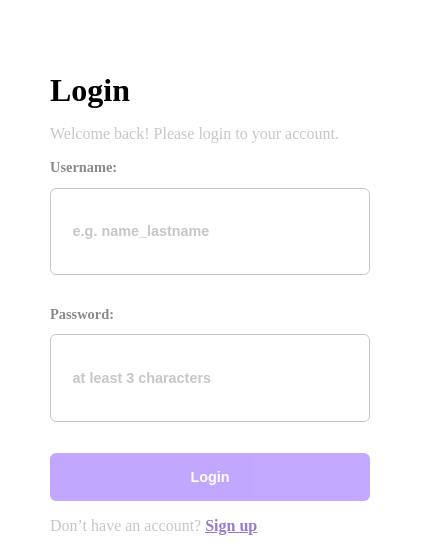
Scenario: Login page interaction › When the user trys to access his account and fails, › a authorization error is shown
Type "test1" into the field labelled "Username:" at (210, 231), box [50,188,370,275]
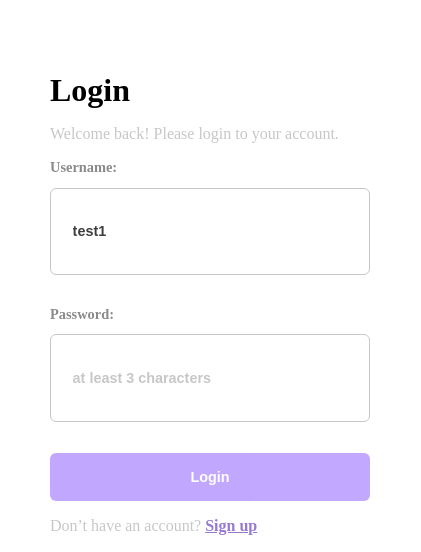
Type "1234" into the password field labelled "Password:" at (210, 378), box [50,334,370,422]
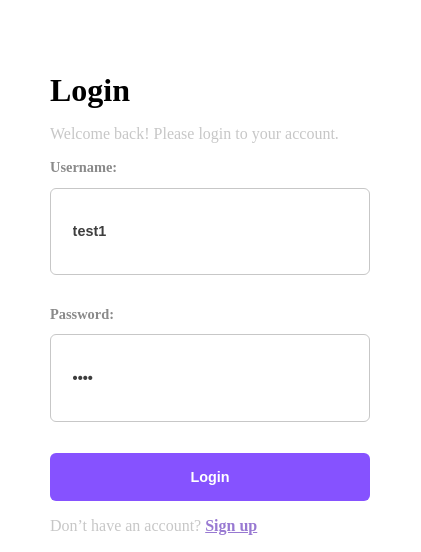
Click the button "Login" at (210, 477), box [50,453,370,501]
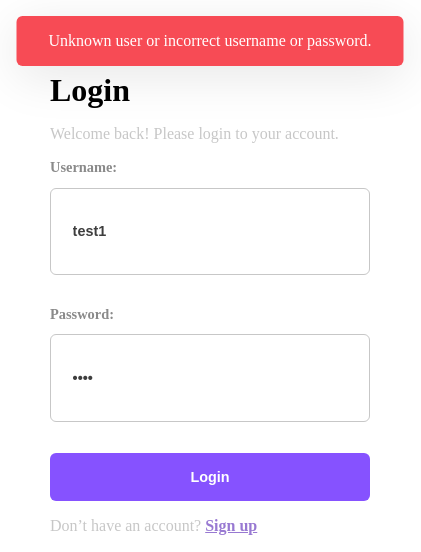
Check: the text "Unknown user or incorrect username or password." is shown, box [48,32,372,50]
